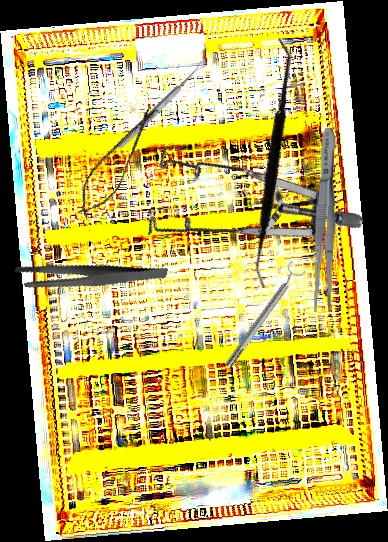Dressing Forceps: (11, 232, 169, 320), (310, 127, 341, 313)
Fixation Ring: (219, 260, 307, 372)
Micro Scissor: (67, 96, 167, 226)
Spatula Surgical: (167, 36, 376, 290)
Speculum: (115, 90, 367, 337)
Surgical Spoon: (116, 59, 208, 151)
